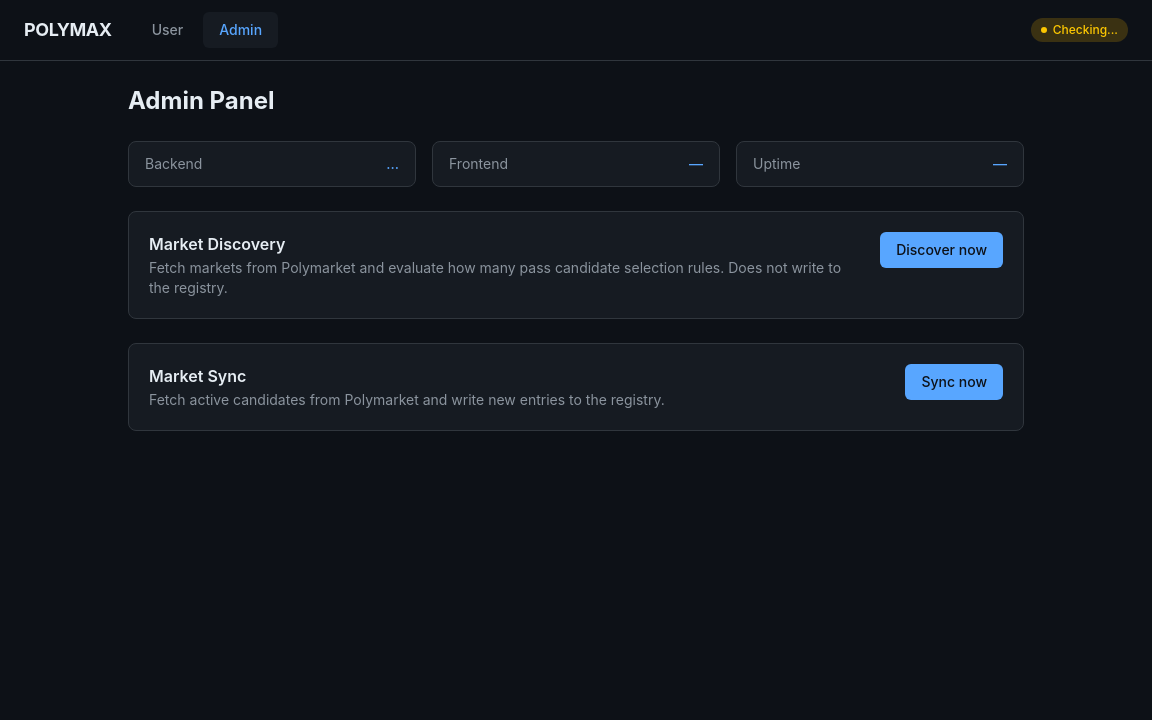
DiscoverAction › renders discovery summary on successful response
Click the button "Discover now": (942, 250) [880,232,1003,268]
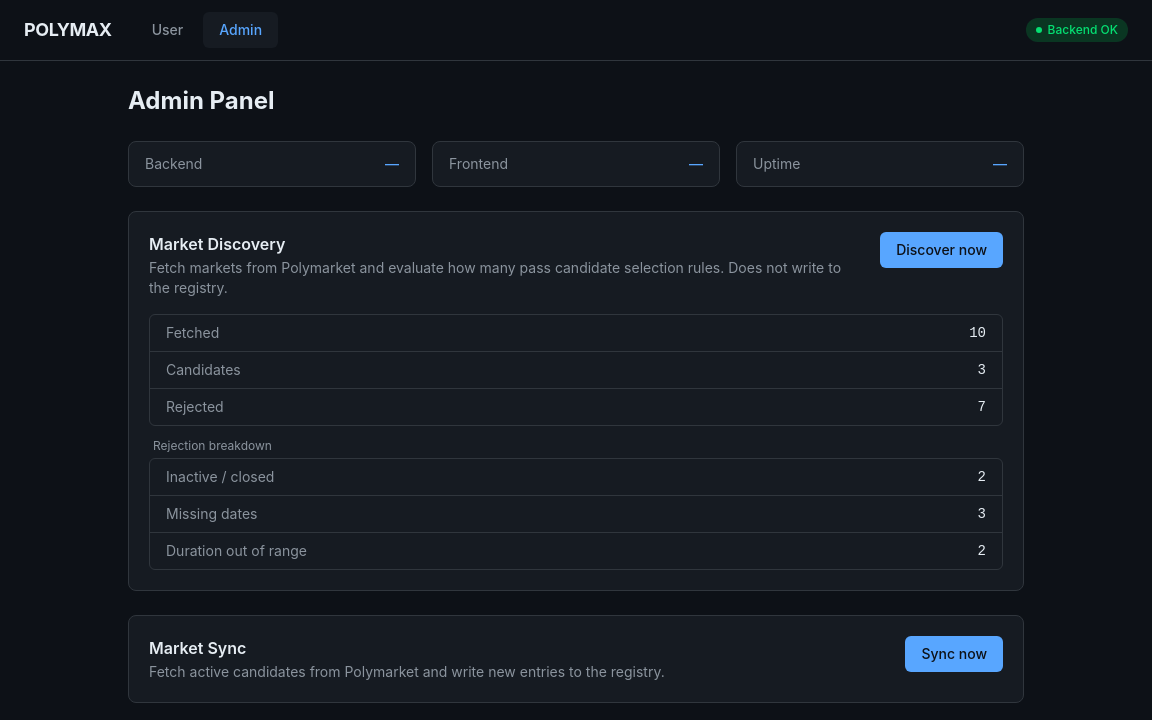
Now the element named "discovery result" is shown, box [149,314,1003,570]
Now the text "Fetched" is shown, box [166,323,219,343]
Now the text "Candidates" is shown, box [166,360,241,380]
